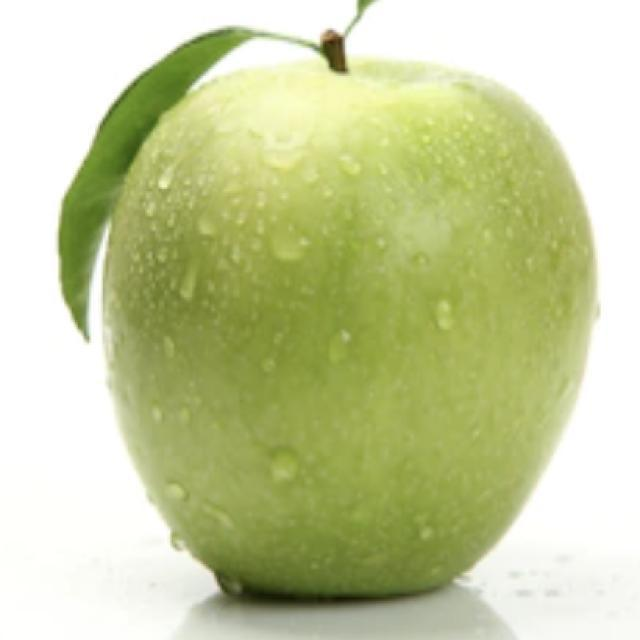Apple: (93, 50, 604, 600)
